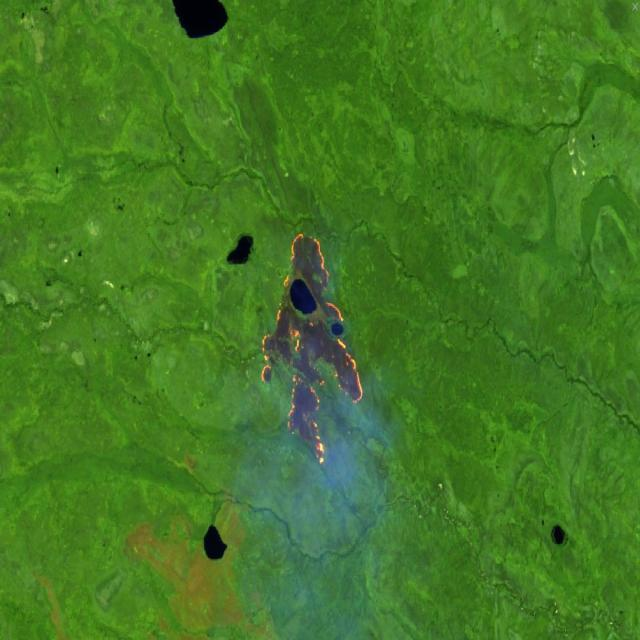fire: (252, 225, 376, 467)
